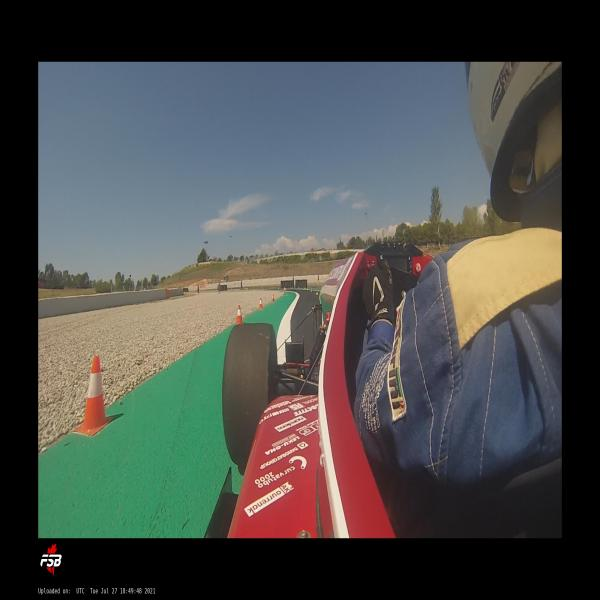orange_cone: (76, 356, 114, 436), (236, 304, 244, 325), (259, 297, 264, 309), (272, 294, 275, 302), (282, 290, 284, 295)
yellow_cone: (316, 289, 318, 295), (310, 288, 312, 292)
